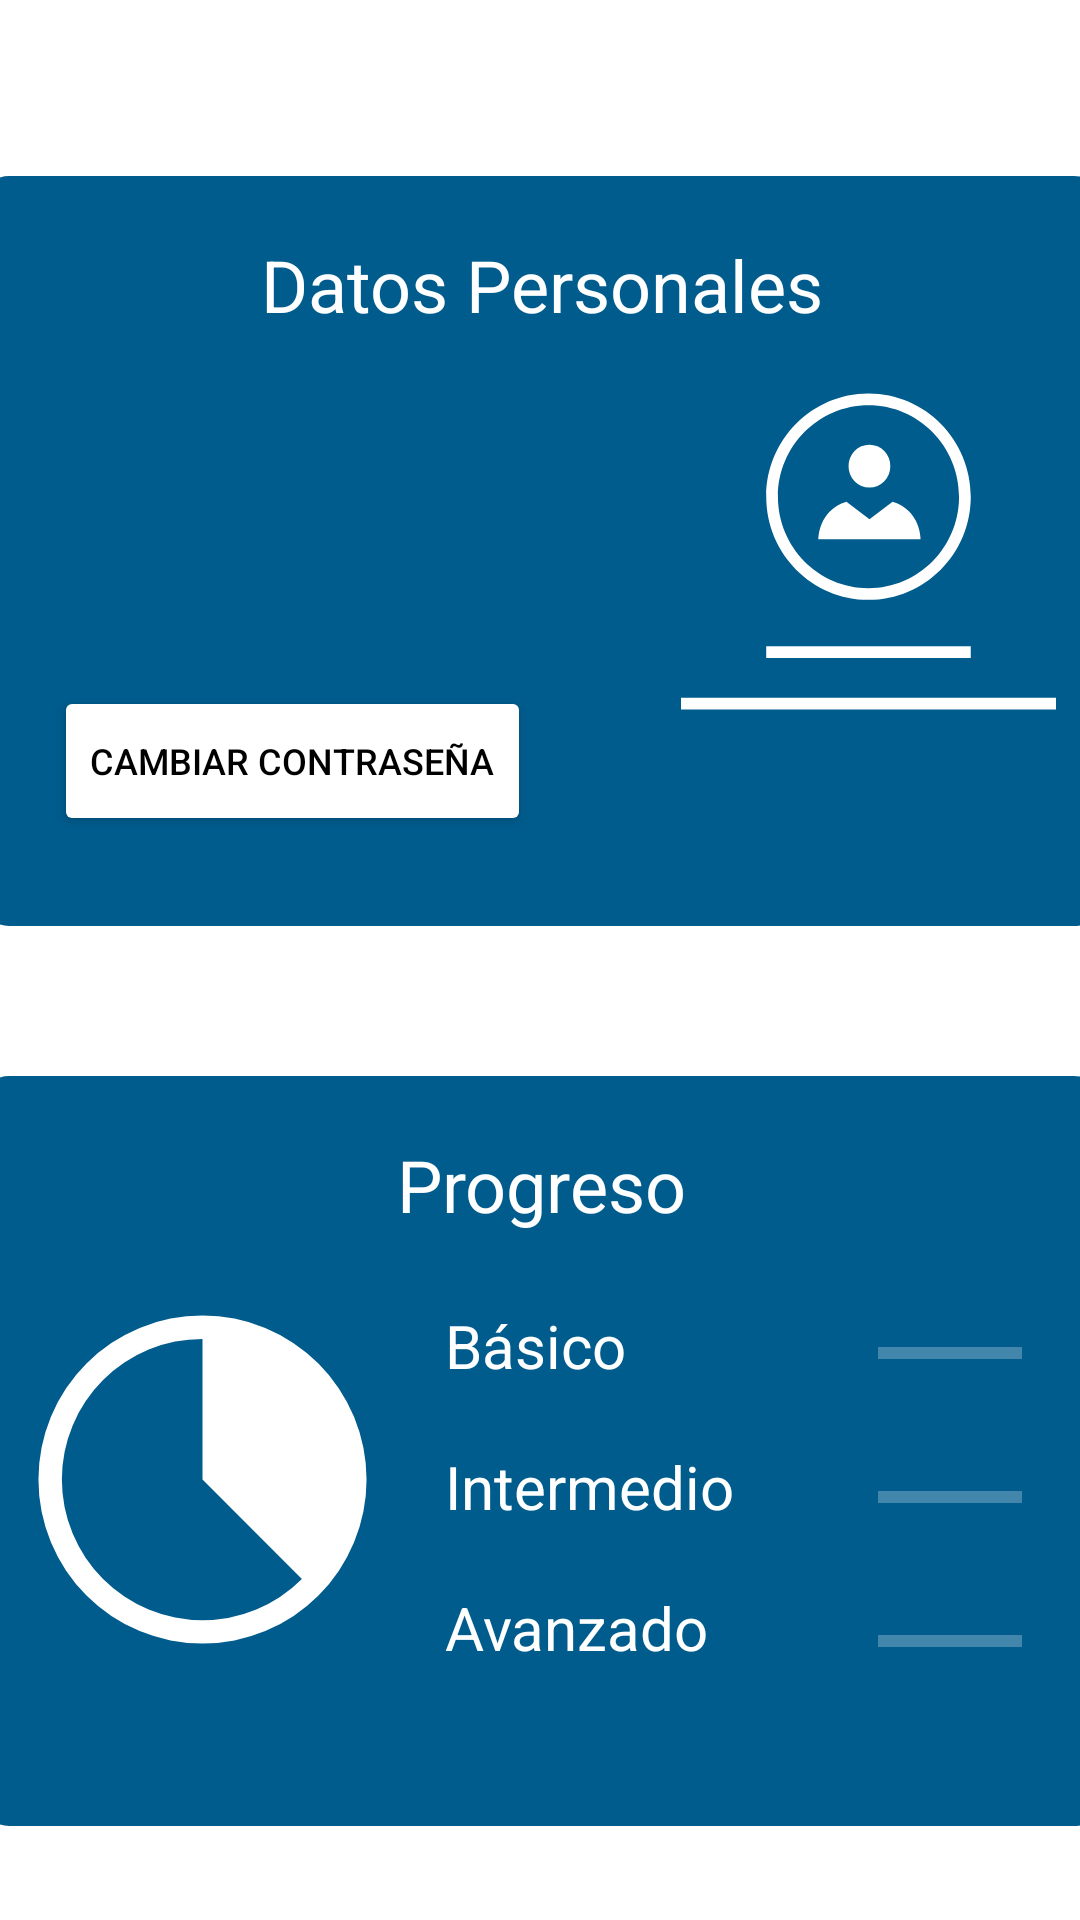

Icon bounding boxes for this 1080×1920 phone screenshot, format (x1, y1, x2, y2):
Progress pie chart: (38, 1315, 367, 1644)
